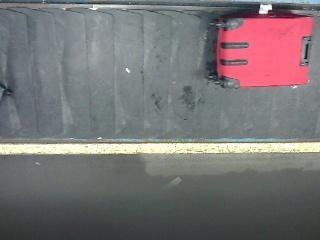Suitcase: (215, 5, 312, 87)
